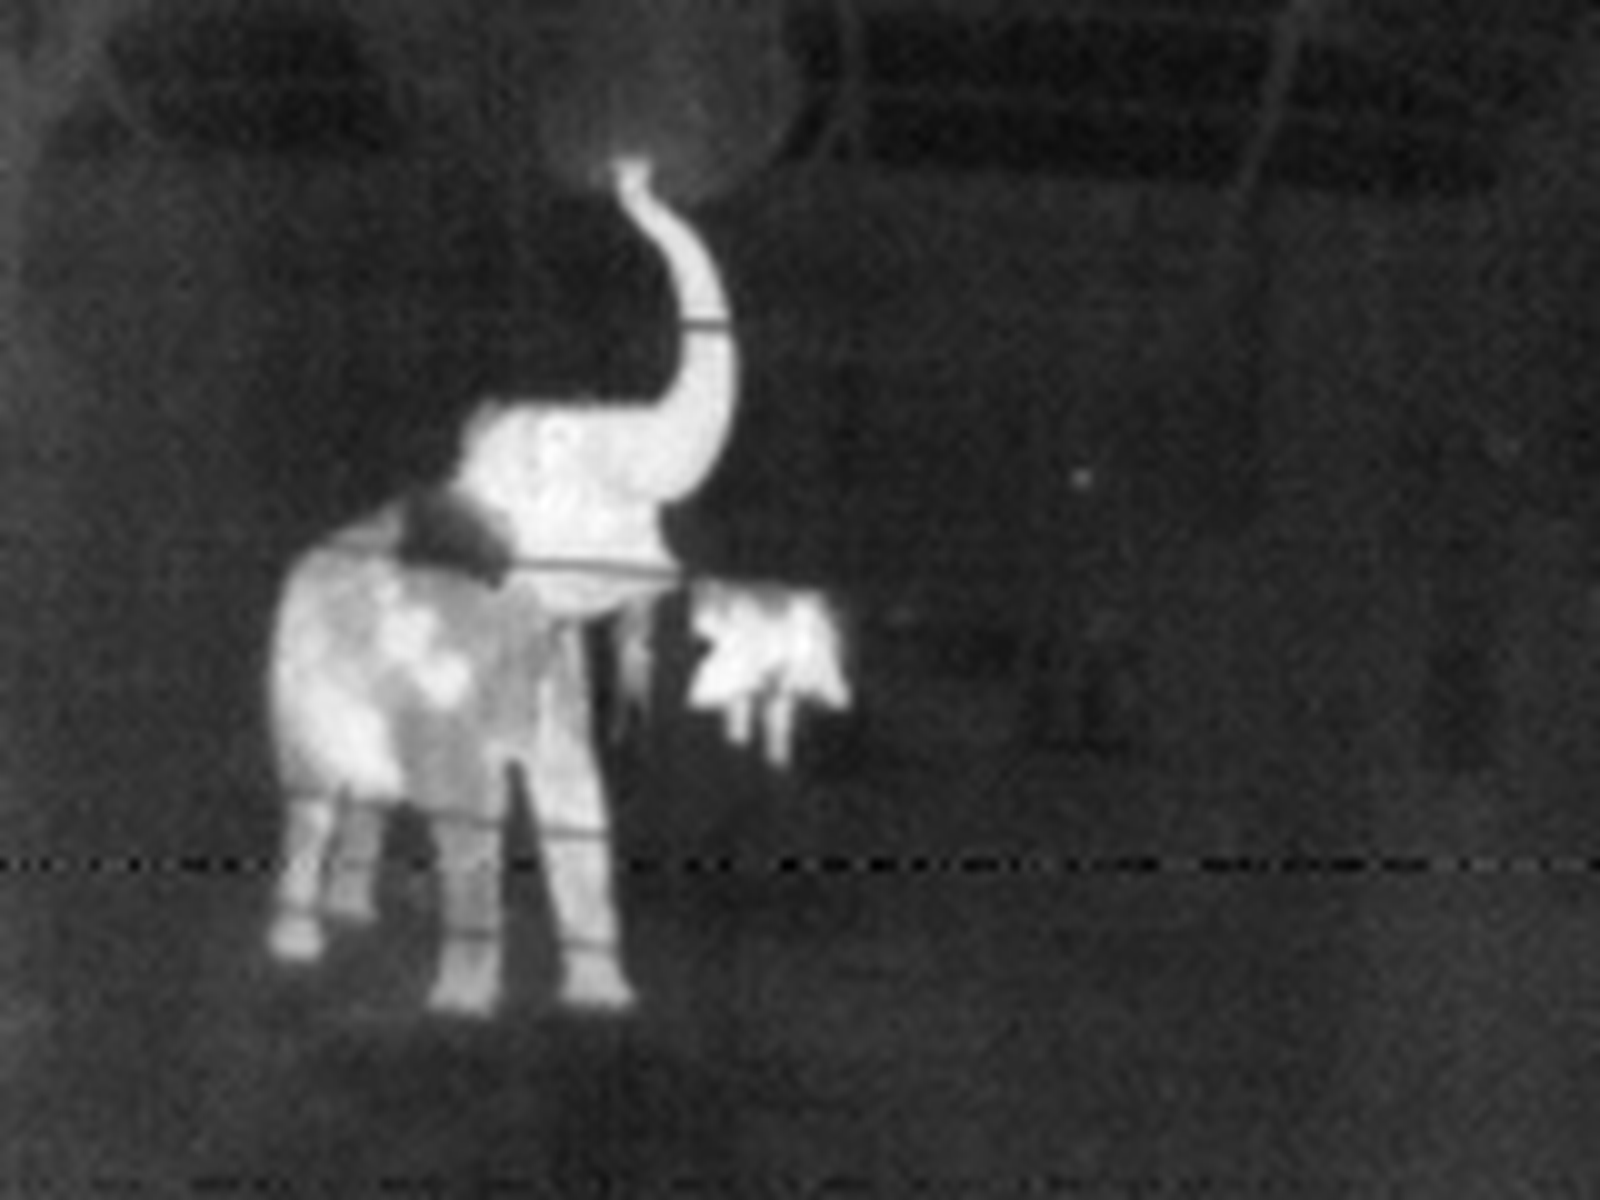elephant: (270, 140, 946, 1071)
